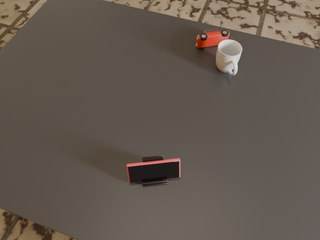cup: (216, 39, 242, 75)
phone: (127, 158, 180, 183)
toy_car: (196, 29, 229, 50)
